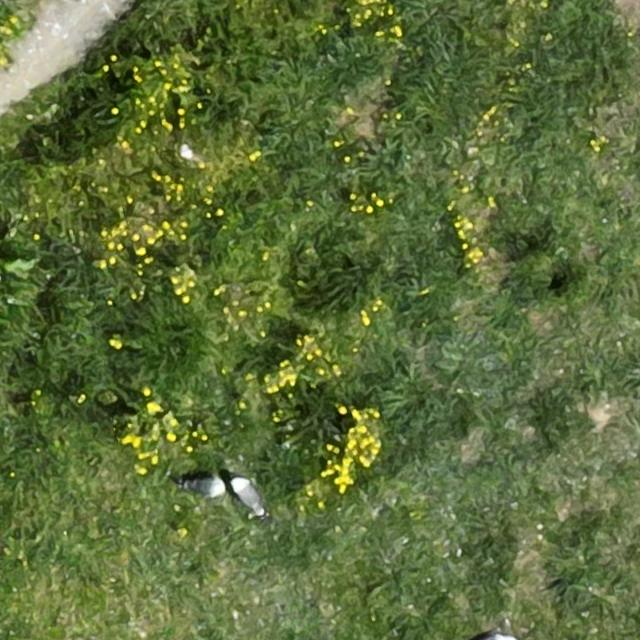umineko: (234, 480, 262, 512), (187, 476, 225, 496)
